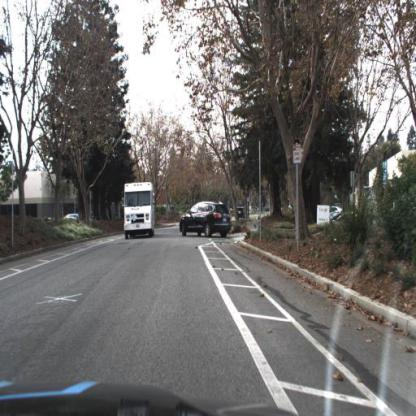car: (177, 201, 235, 238), (236, 207, 245, 219), (250, 206, 261, 214), (70, 213, 81, 219)
truck: (124, 183, 156, 244)
